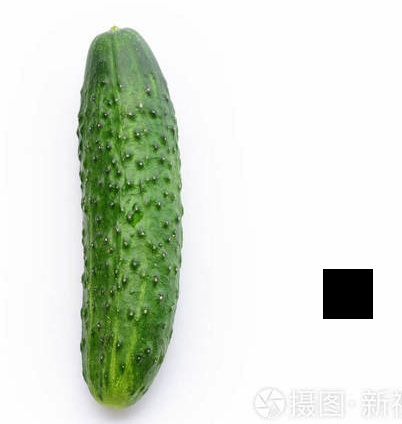cucumber: (73, 25, 179, 412)
